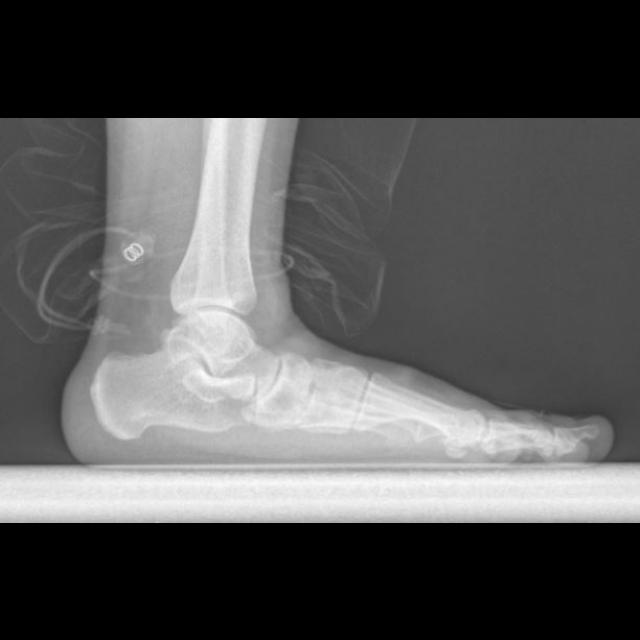a: (89, 346, 256, 441)
b: (259, 350, 313, 421)
c: (355, 370, 486, 447)
